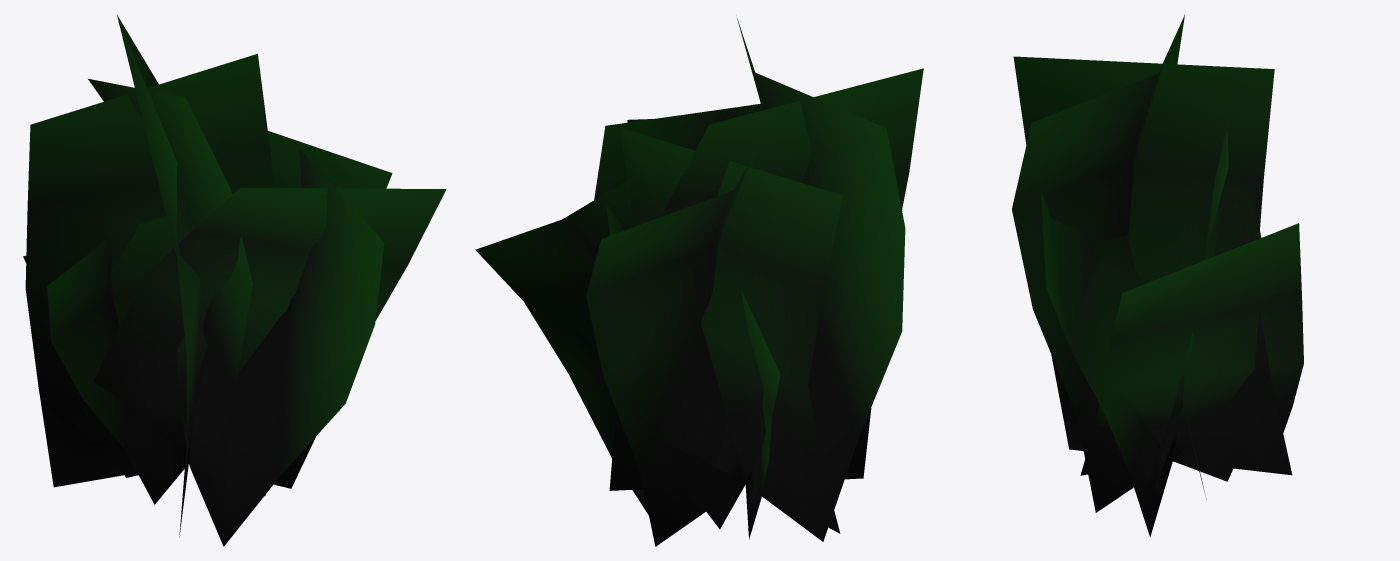
The model's file is GenericTreeBushE_Winter.fbx.
The picture shows the model from 3 angles, left to right: view 1: azimuth 30°, elevation 25°; view 2: azimuth 150°, elevation 25°; view 3: azimuth 270°, elevation 25°; orthographic projection. The views are drawn at different scales.
Parts seen in each view (by area): view 1: GTBEW_Leaves_LOD0; view 2: GTBEW_Leaves_LOD0; view 3: GTBEW_Leaves_LOD0.
Part boxes in pixels (box(x1,y1,x2,y2)): GTBEW_Leaves_LOD0: box(23, 15, 446, 546); GTBEW_Leaves_LOD0: box(475, 18, 923, 546); GTBEW_Leaves_LOD0: box(1012, 15, 1303, 536).
Bounding box in the file's own units: 2.98 × 3.33 × 2.98.
